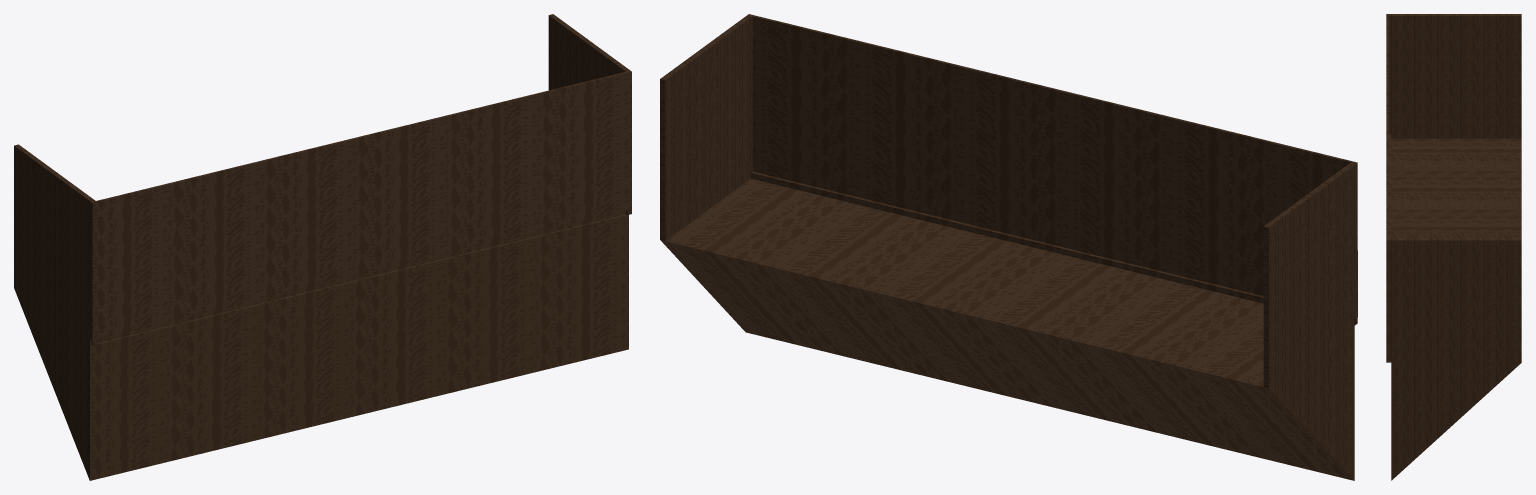
Rendered from bibliotheque.glb.
The picture shows the model from 3 angles, left to right: view 1: azimuth 30°, elevation 25°; view 2: azimuth 150°, elevation 25°; view 3: azimuth 270°, elevation 25°; orthographic projection. The views are drawn at different scales.
Parts seen in each view (by area): view 1: Bibliotheque; view 2: Bibliotheque; view 3: Bibliotheque.
Boxes of the visible parts, x1,y1,x2,y2 form: Bibliotheque: [14, 14, 631, 480]; Bibliotheque: [660, 14, 1357, 480]; Bibliotheque: [1386, 14, 1521, 480].
Size of the model in its own units: 10.06 by 4.99 by 2.54.
1 material, 1 textured.
